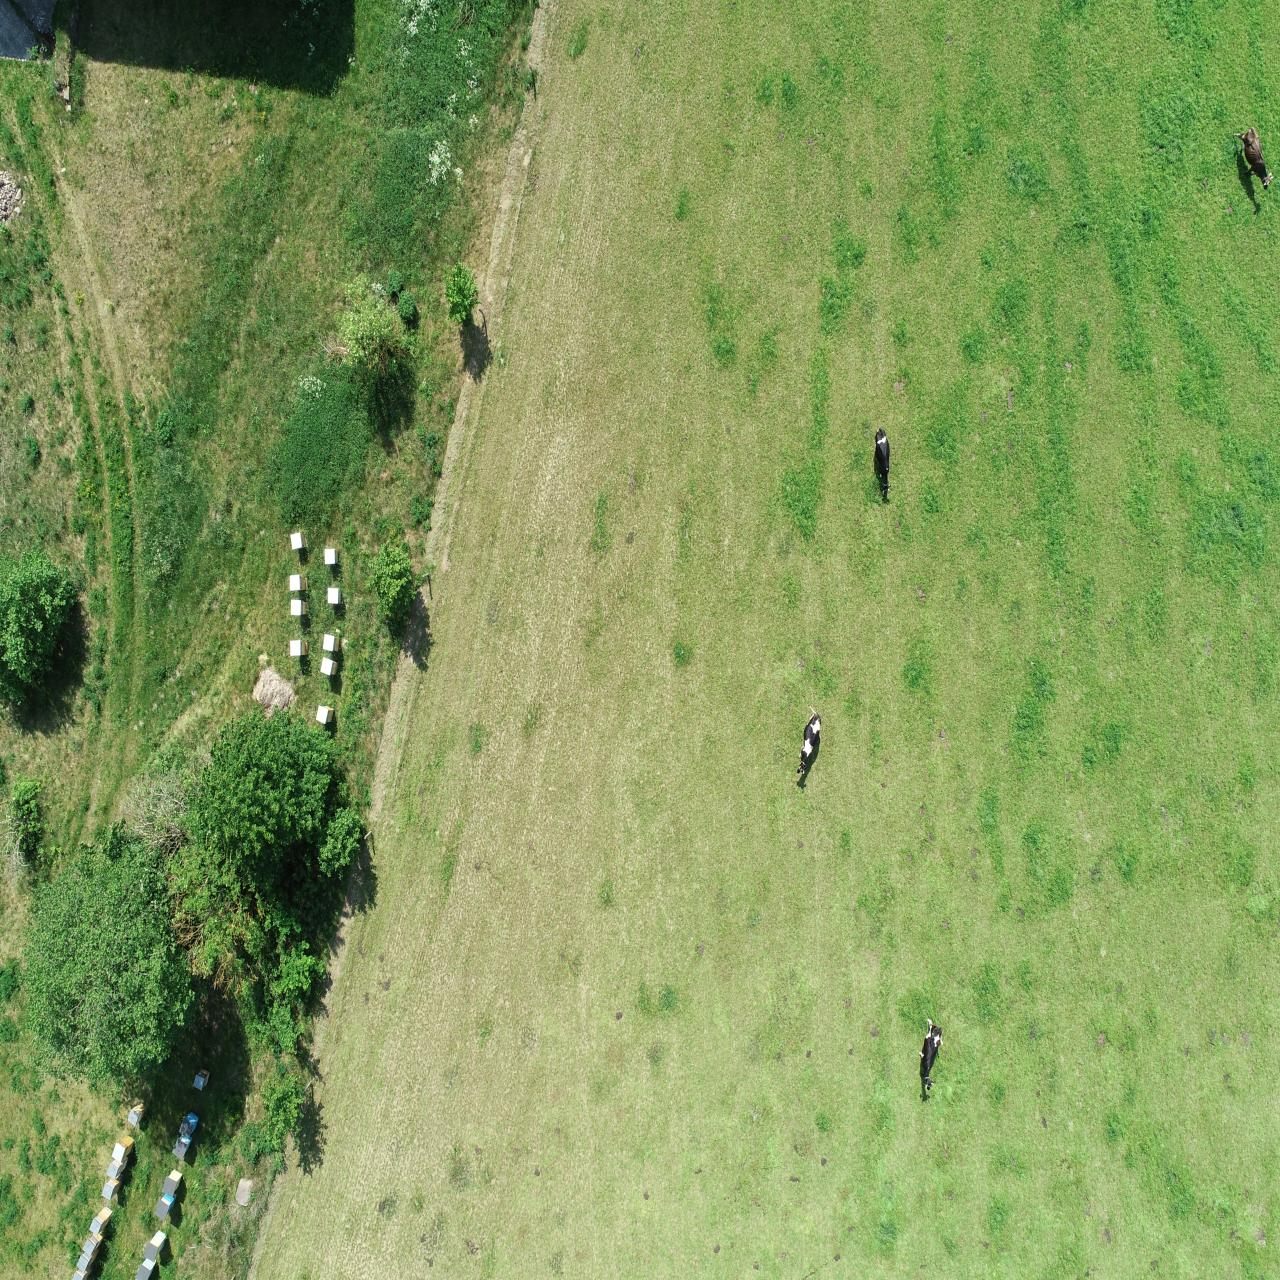cow: (1232, 123, 1275, 195), (915, 1014, 945, 1097), (794, 703, 824, 778), (871, 425, 893, 498)
